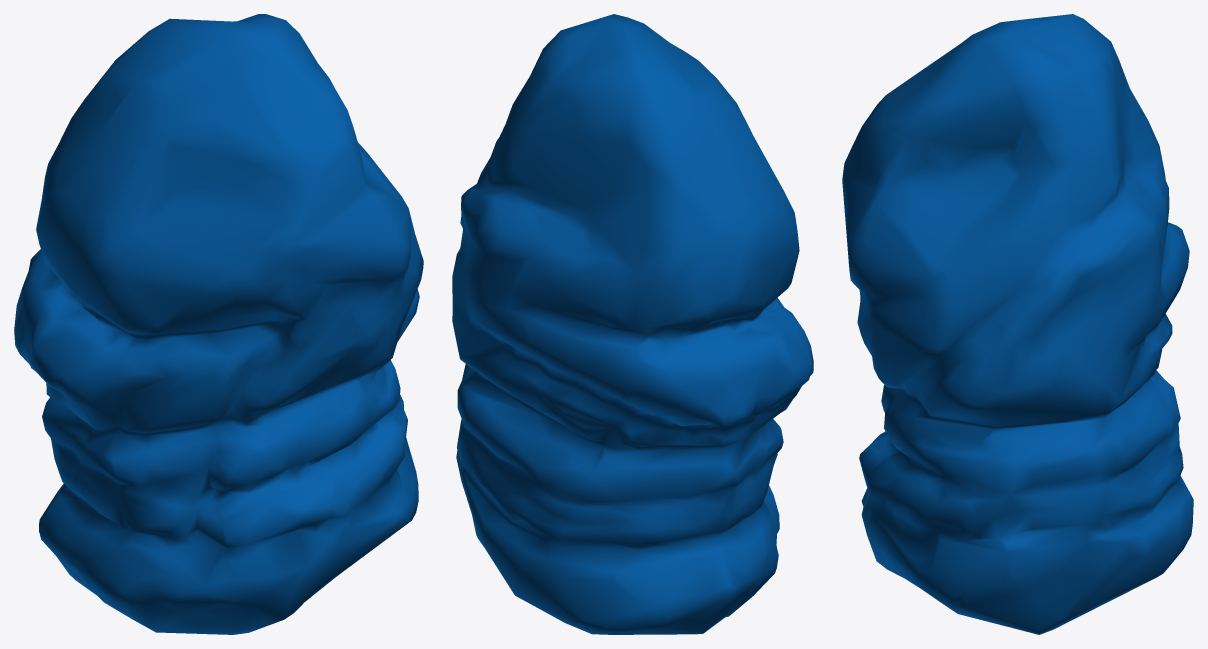
The model's file is stone_big_4.glb.
The picture shows the model from 3 angles, left to right: view 1: azimuth 30°, elevation 25°; view 2: azimuth 150°, elevation 25°; view 3: azimuth 270°, elevation 25°; orthographic projection.
Parts seen in each view (by area): view 1: Big_4; view 2: Big_4; view 3: Big_4.
Part boxes in pixels (x1=…): Big_4: x1=14, y1=14, x2=423, y2=634; Big_4: x1=452, y1=14, x2=813, y2=634; Big_4: x1=842, y1=14, x2=1193, y2=634.
Size of the model in its own units: 3.32 by 5.14 by 2.82.
Materials: 1 (1 with a texture image).
